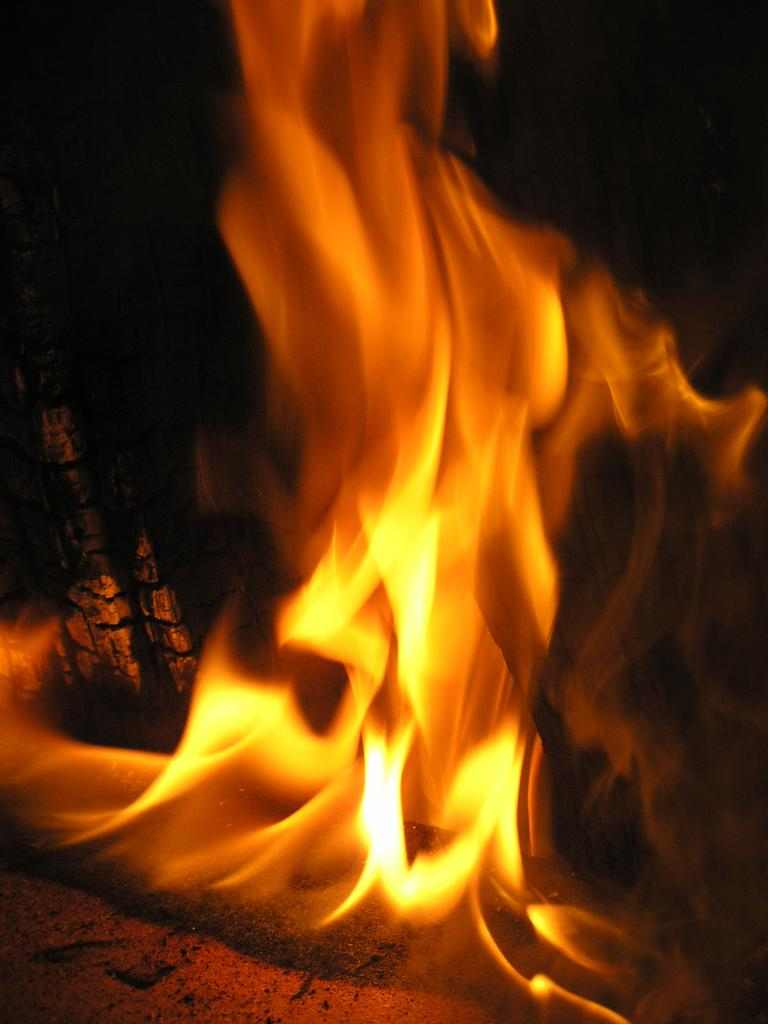fire: (285, 288, 568, 970)
